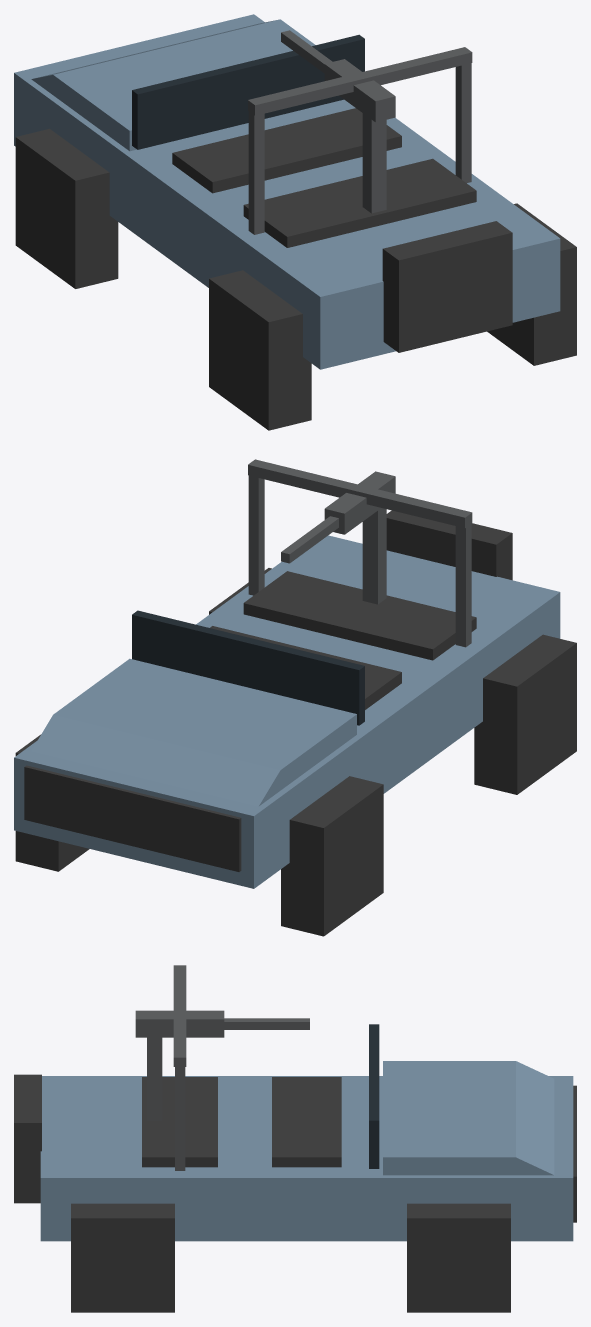
The model's file is jeep.glb.
3 renders of one model, top to bottom at view 1: azimuth 30°, elevation 25°; view 2: azimuth 150°, elevation 25°; view 3: azimuth 270°, elevation 25°, orthographic. The views are drawn at different scales.
Visible parts, largest first — view 1: Jeep; view 2: Jeep; view 3: Jeep.
Boxes of the visible parts, x1,y1,x2,y2 form: Jeep: (14, 14, 576, 430); Jeep: (14, 459, 576, 936); Jeep: (14, 965, 576, 1312).
Bounding box in the file's own units: 2.44 × 2.05 × 4.44.
